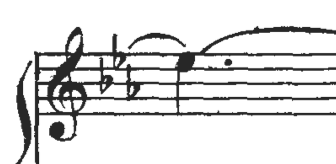flat: (107, 28, 130, 74), (93, 55, 116, 97), (122, 62, 144, 103)
treble_clef: (39, 24, 91, 148)
